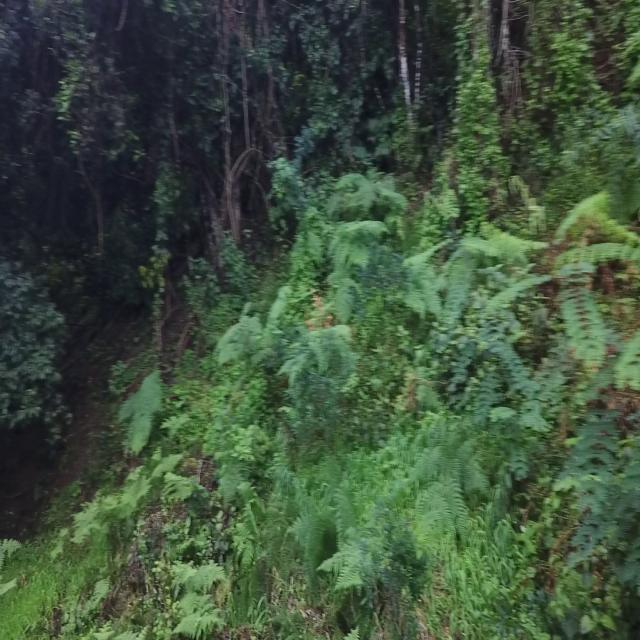Mysore-Thorn-Weed: (565, 398, 640, 586), (443, 304, 538, 434), (558, 250, 608, 374)
